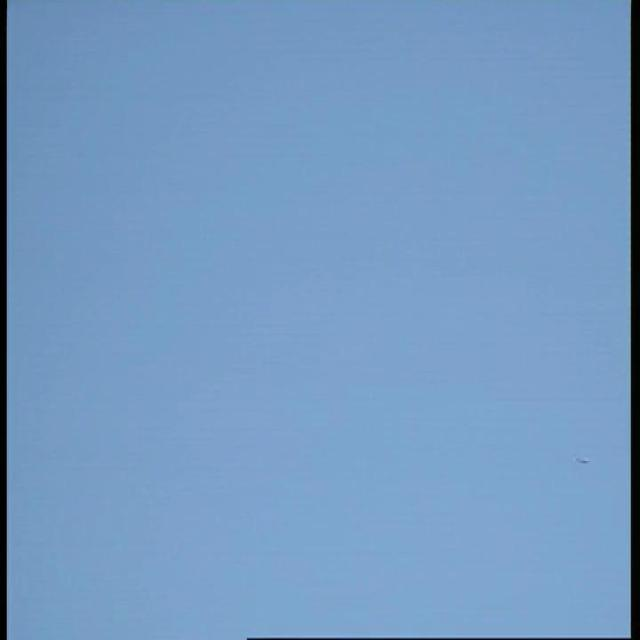drone: (568, 449, 596, 469)
